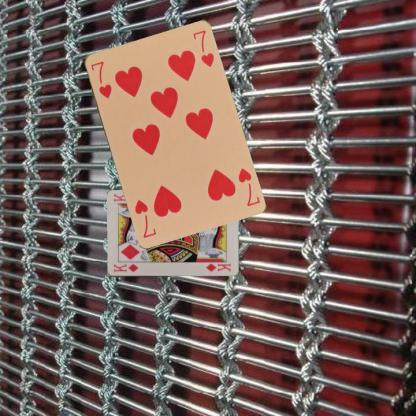7h: (235, 165, 261, 208), (88, 58, 112, 100)
Kd: (111, 261, 139, 273)
